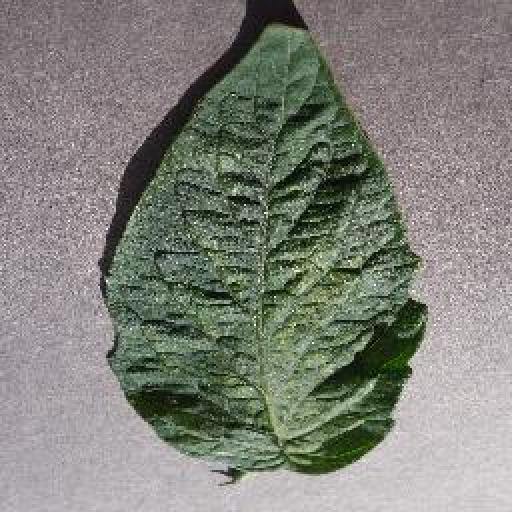Spider Mites: (102, 20, 430, 473)
